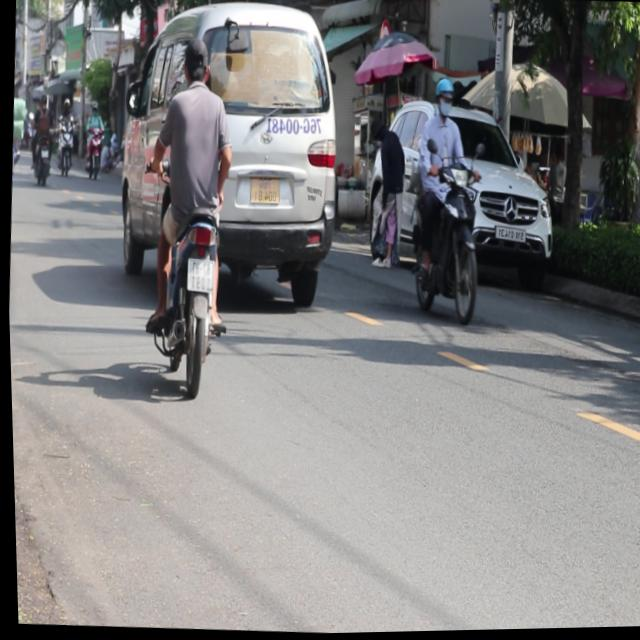helmet: (434, 76, 457, 117)
licenseplate: (134, 33, 246, 393), (401, 73, 492, 327)
motorcyclist: (181, 37, 213, 89)
nohelmet: (185, 259, 214, 292)
